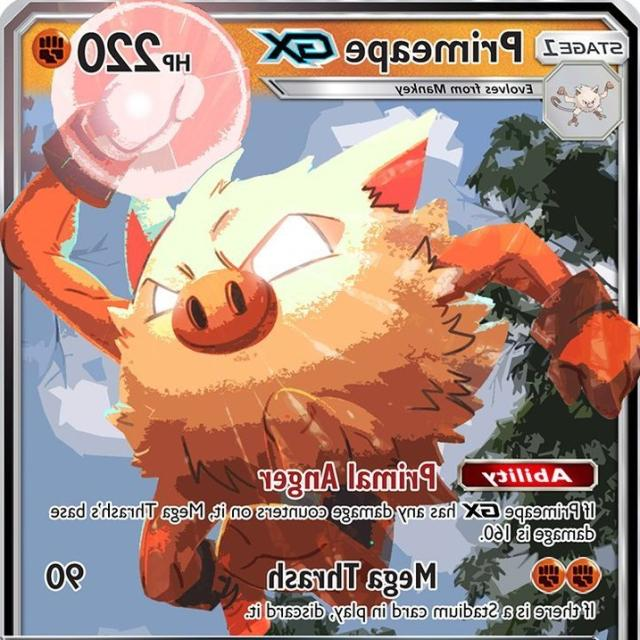Primeape: (83, 100, 482, 588)
